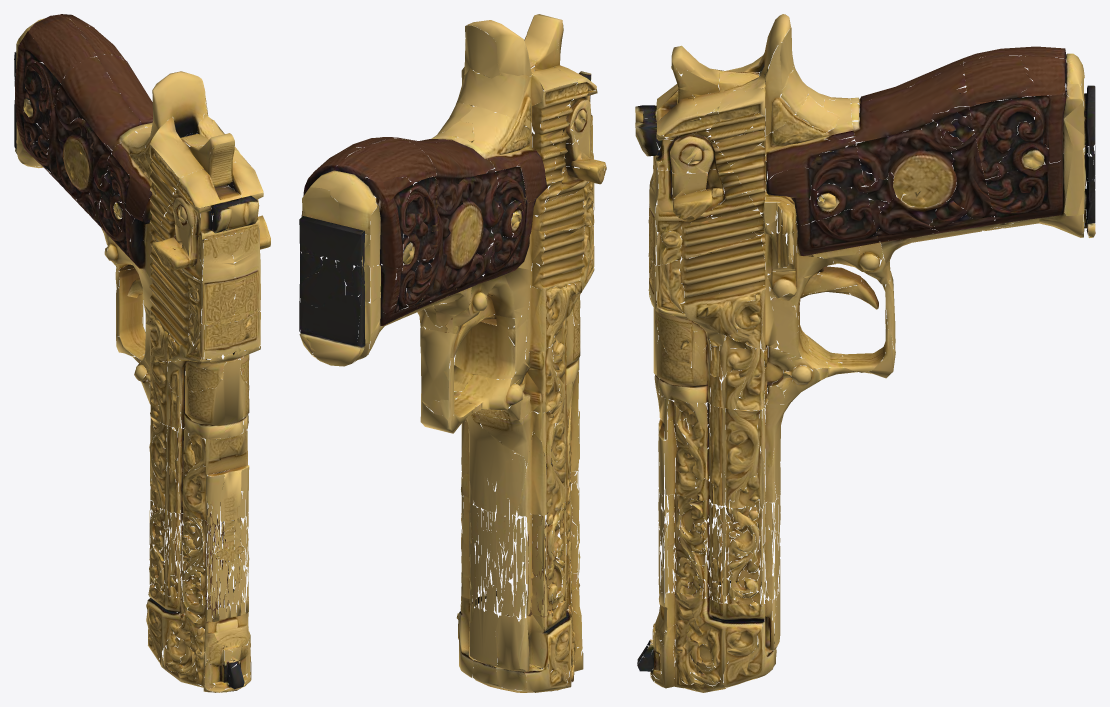
File: golden_deagle.glb
3 views of the same model, side by side, from view 1: azimuth 30°, elevation 25°; view 2: azimuth 150°, elevation 25°; view 3: azimuth 270°, elevation 25° (orthographic). The views are drawn at different scales.
Parts seen in each view (by area): view 1: tripo_node_ecf561a4-a98e-48f6-b01f-d2eb0bc3043a; view 2: tripo_node_ecf561a4-a98e-48f6-b01f-d2eb0bc3043a; view 3: tripo_node_ecf561a4-a98e-48f6-b01f-d2eb0bc3043a.
Part boxes in pixels (x1,y1,x2,y2): tripo_node_ecf561a4-a98e-48f6-b01f-d2eb0bc3043a: (14, 14, 270, 692); tripo_node_ecf561a4-a98e-48f6-b01f-d2eb0bc3043a: (299, 14, 606, 692); tripo_node_ecf561a4-a98e-48f6-b01f-d2eb0bc3043a: (635, 14, 1095, 692).
Bounding box in the file's own units: 0.0598 × 0.3 × 0.1887.
Materials: 1 (1 with a texture image).
